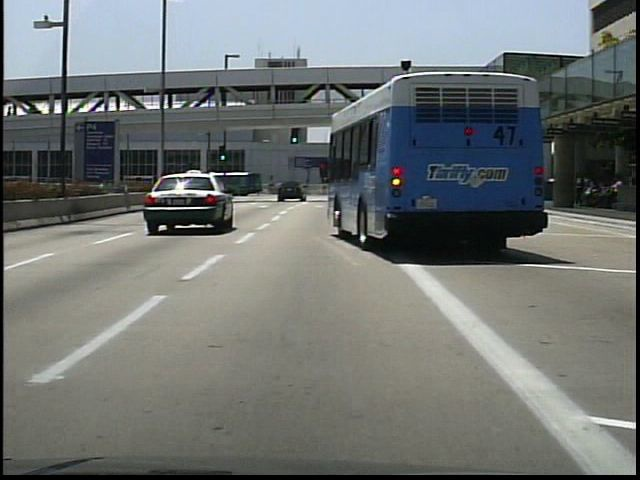person: (572, 169, 586, 208)
